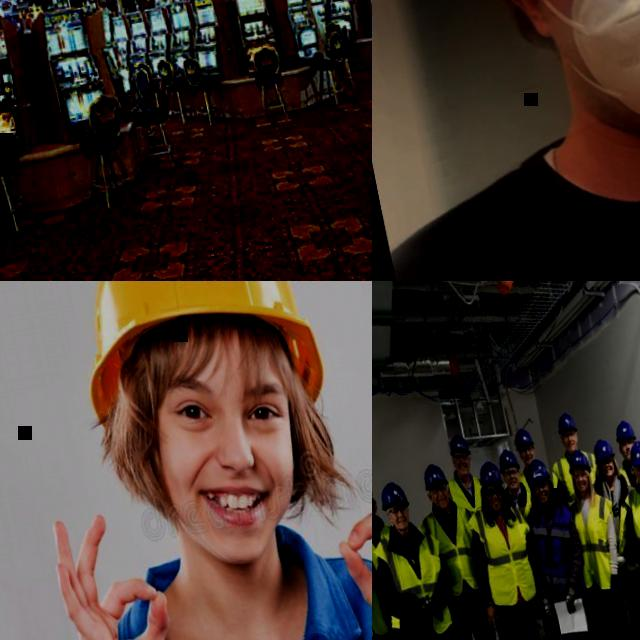helmet: (55, 281, 333, 437), (376, 481, 409, 513), (421, 464, 449, 492), (476, 461, 504, 488), (524, 458, 552, 485), (565, 449, 591, 477), (590, 438, 616, 464), (496, 448, 520, 475), (612, 419, 636, 444), (554, 412, 578, 436), (446, 434, 469, 459), (512, 428, 534, 451), (627, 439, 640, 468)
no_mask: (516, 0, 640, 155), (172, 463, 303, 574), (392, 516, 410, 534), (431, 495, 451, 511), (487, 496, 504, 514), (536, 490, 552, 506), (455, 462, 471, 478), (562, 439, 578, 454), (574, 479, 590, 494), (601, 466, 616, 480), (506, 478, 520, 493), (620, 448, 634, 462), (522, 453, 536, 467), (372, 507, 377, 523), (636, 473, 640, 488)
no_vest: (372, 46, 640, 281), (111, 532, 372, 640)
person: (0, 281, 372, 640), (372, 0, 640, 281), (540, 409, 638, 640), (456, 455, 571, 640), (404, 457, 518, 640), (509, 456, 617, 640), (372, 474, 489, 640), (438, 432, 523, 640), (490, 445, 575, 640), (557, 445, 640, 640), (509, 428, 582, 640), (584, 435, 640, 640), (372, 471, 430, 640), (605, 418, 640, 640), (606, 436, 640, 640)
vest: (372, 519, 457, 640), (464, 498, 544, 612), (412, 499, 492, 604), (568, 491, 630, 596), (526, 500, 588, 598), (548, 447, 604, 508), (604, 481, 640, 574), (444, 474, 487, 520), (621, 479, 640, 583), (518, 464, 562, 504), (372, 523, 400, 576), (502, 482, 536, 524), (619, 466, 639, 490)
